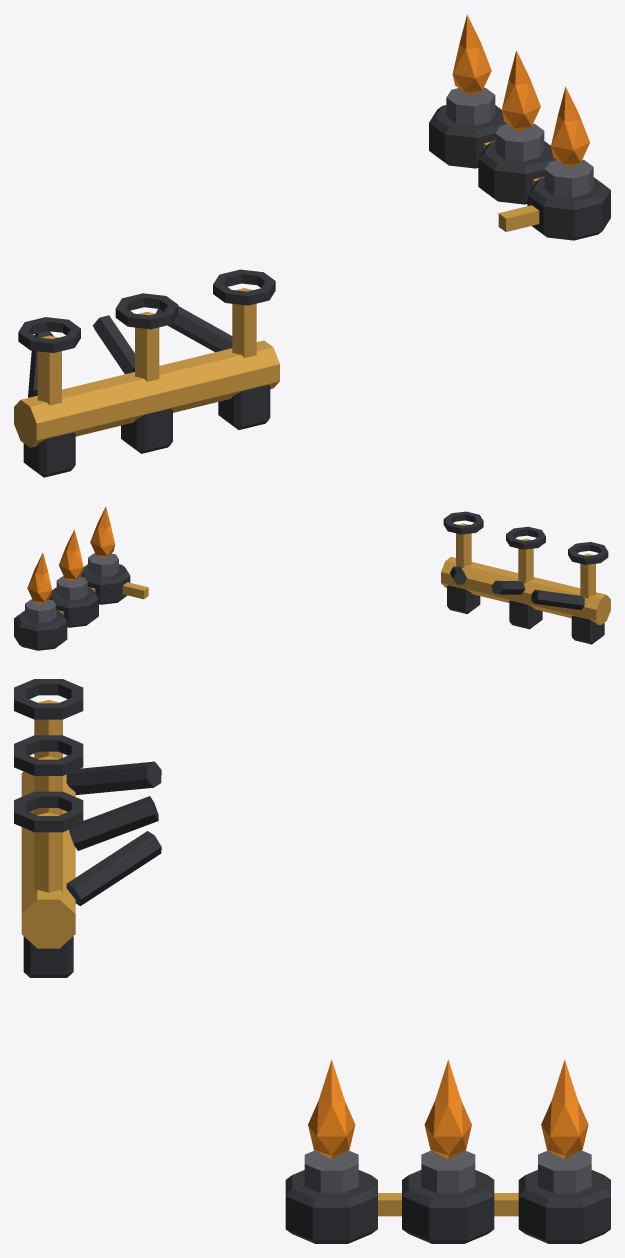
The model's file is FlameDressB1.obj.
3 renders of one model, top to bottom at view 1: azimuth 30°, elevation 25°; view 2: azimuth 150°, elevation 25°; view 3: azimuth 270°, elevation 25°, orthographic. The views are drawn at different scales.
Parts seen in each view (by area): view 1: FlameDressB1; view 2: FlameDressB1; view 3: FlameDressB1.
Part boxes in pixels (bbox=[...]): FlameDressB1: bbox=[14, 14, 610, 477]; FlameDressB1: bbox=[14, 506, 610, 650]; FlameDressB1: bbox=[14, 679, 610, 1243].
Bounding box in the file's own units: 1.15 × 0.22 × 0.717.
